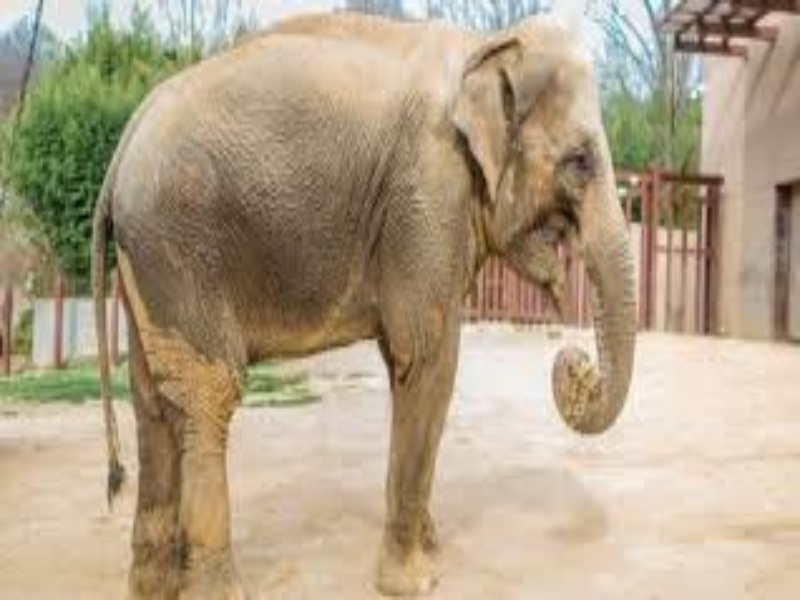elephant: (43, 2, 661, 600)
